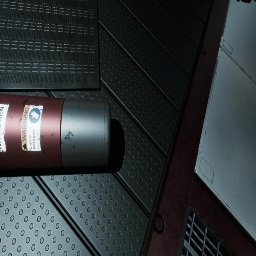NitrogenTank ,: (0, 94, 111, 169)
